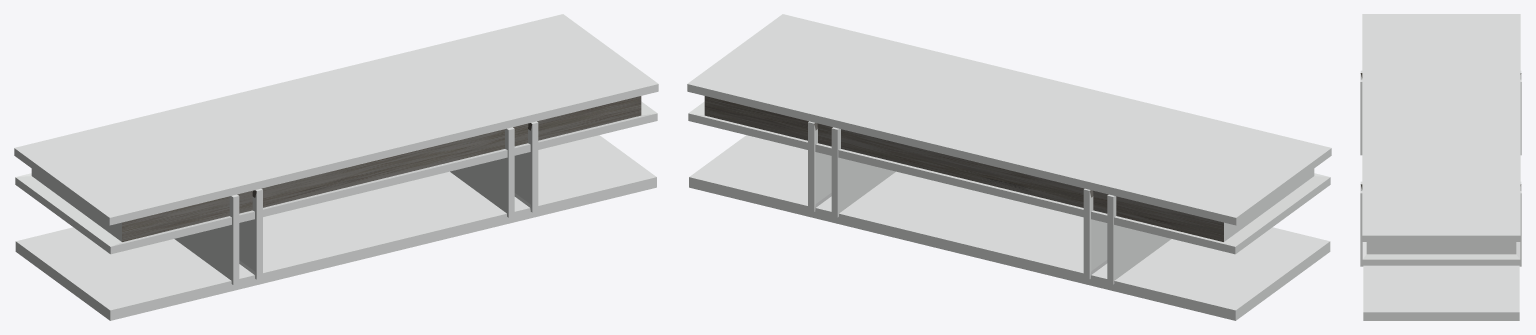
File: Banco.fbx
3 renders of one model, left to right at view 1: azimuth 30°, elevation 25°; view 2: azimuth 150°, elevation 25°; view 3: azimuth 270°, elevation 25°, orthographic. The views are drawn at different scales.
Visible parts, largest first — view 1: Banco2; view 2: Banco2; view 3: Banco2.
Part boxes in pixels (bbox=[...]): Banco2: bbox=[14, 14, 658, 320]; Banco2: bbox=[687, 14, 1331, 320]; Banco2: bbox=[1360, 14, 1521, 320].
Size of the model in its own units: 984 by 178 by 302.
2 materials, 2 textured.
